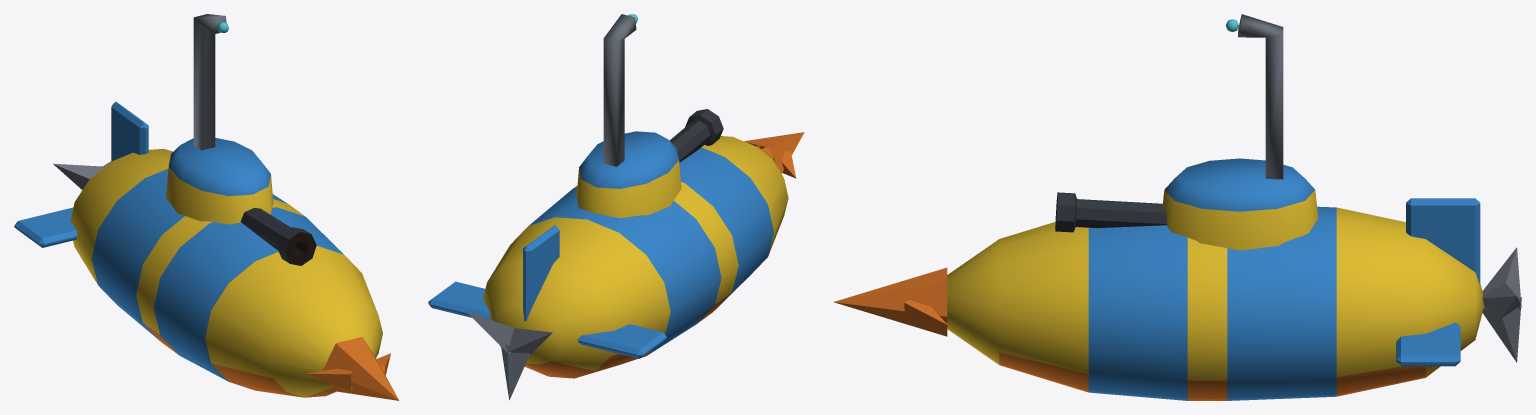
3 renders of one model, left to right at view 1: azimuth 30°, elevation 25°; view 2: azimuth 150°, elevation 25°; view 3: azimuth 270°, elevation 25°, orthographic. The views are drawn at different scales.
Parts seen in each view (by area): view 1: submarino_0_base, submarino_1_torreta; view 2: submarino_0_base, submarino_1_torreta; view 3: submarino_0_base, submarino_1_torreta.
Part boxes in pixels (x1,y1,x2,y2): submarino_0_base: (14, 101, 399, 400); submarino_1_torreta: (166, 14, 316, 265); submarino_0_base: (428, 132, 804, 400); submarino_1_torreta: (576, 14, 723, 218); submarino_0_base: (833, 198, 1521, 400); submarino_1_torreta: (1055, 14, 1318, 250).
Size of the model in its own units: 0.58 by 0.8253 by 1.39.
